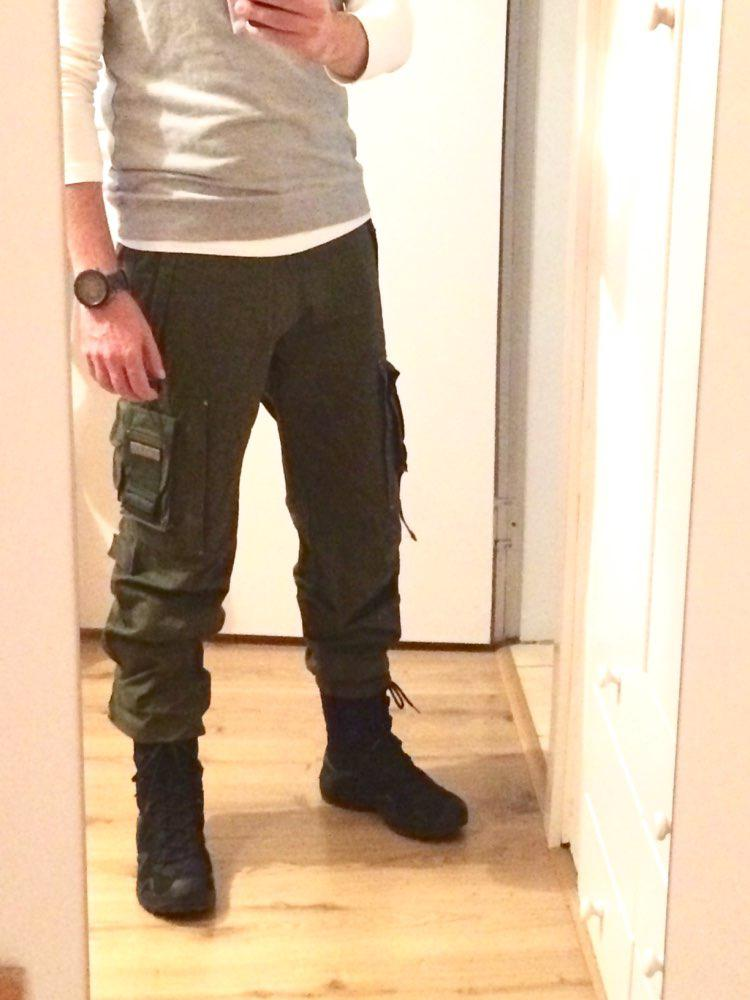pants: (104, 213, 406, 717)
